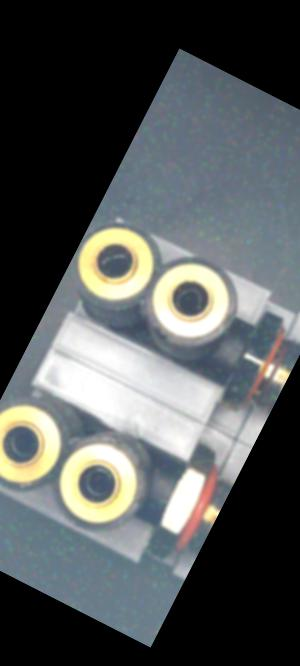bump: (148, 322, 173, 342), (127, 487, 146, 508), (131, 457, 146, 473)
off-centered: (166, 277, 212, 325), (95, 241, 142, 287)
white mark: (232, 341, 245, 354), (157, 495, 169, 507)
